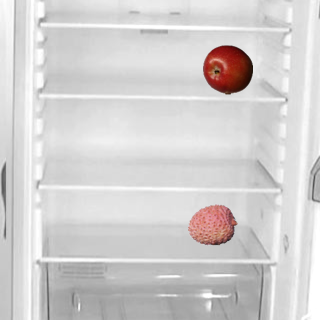Apple Braeburn: (202, 44, 252, 94)
Lychee: (187, 199, 237, 249)
